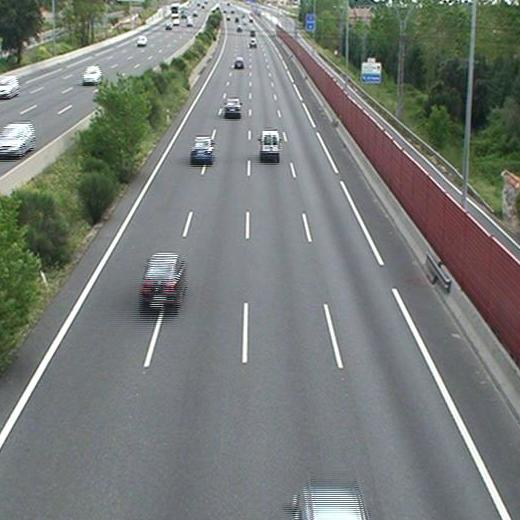car: (140, 253, 184, 306), (191, 137, 214, 161), (224, 100, 242, 117), (233, 58, 245, 68), (249, 37, 257, 48)
van: (259, 130, 280, 158)
